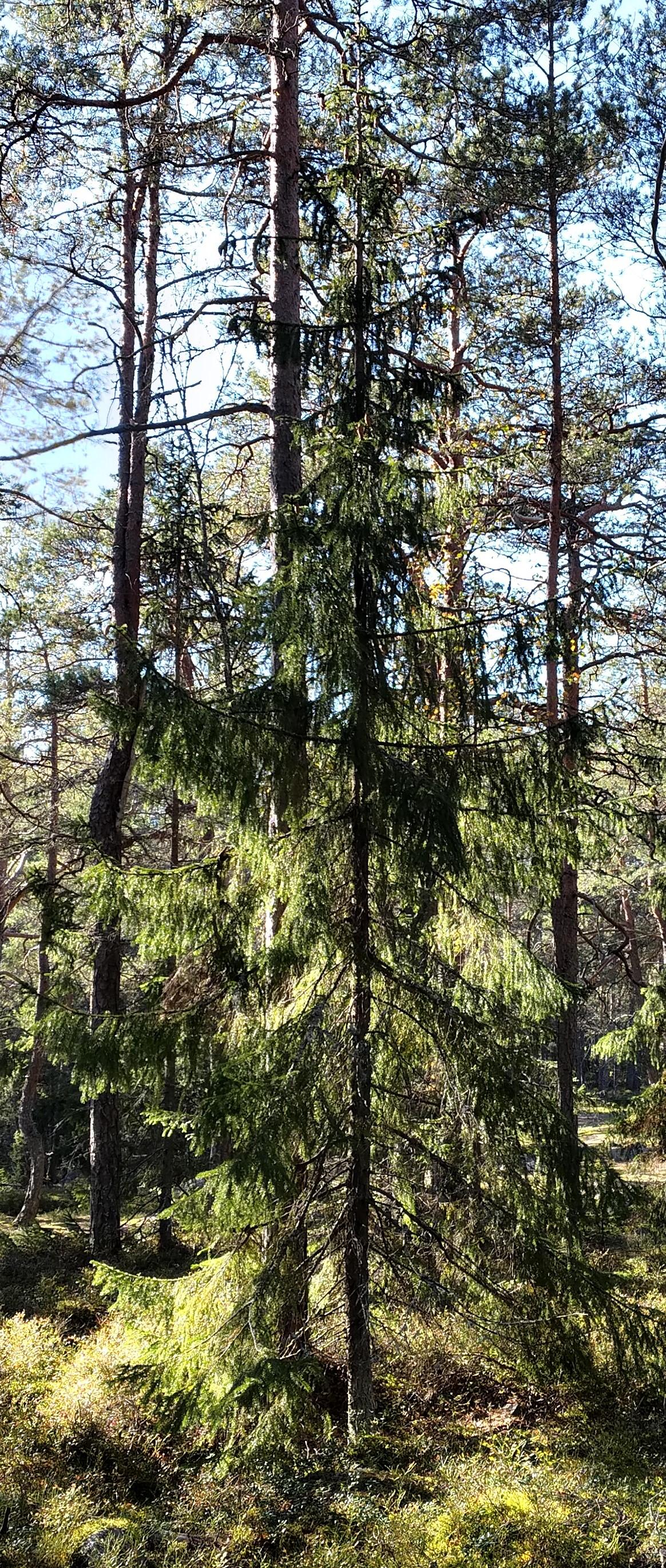Spruce: (152, 173, 613, 1523)
